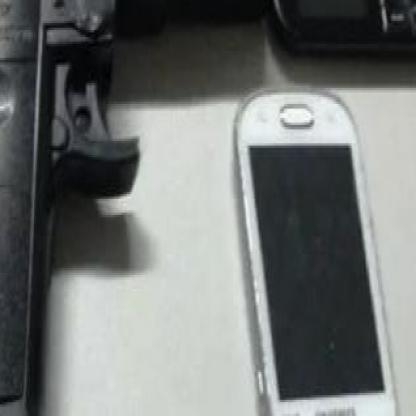gun: (0, 0, 287, 414)
